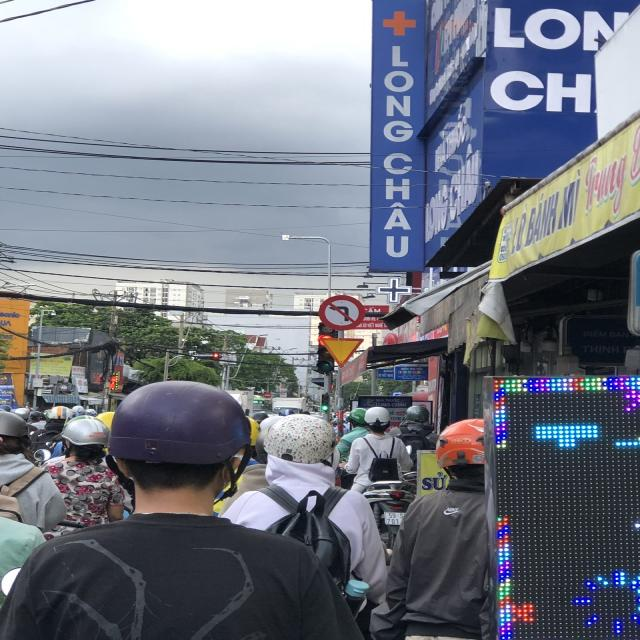Bien bao cam re trai: (313, 292, 375, 334)
Bien bao giao nhau voi duong uu tien: (315, 333, 370, 369)
